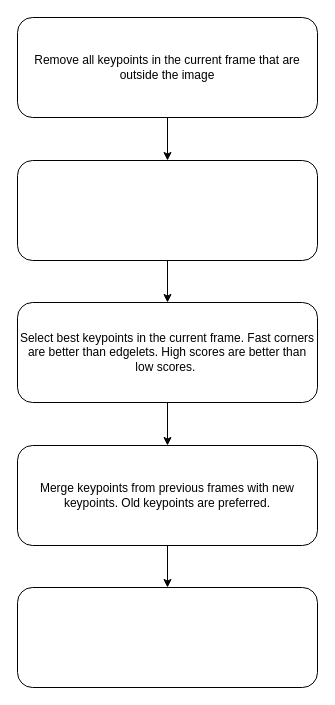
Some shapes in this 335 by 705 pixel diagram are drawn without their labels. Here are the shapes that lost their labels. From the top down, the centre of each, then its label:
the point at 167,210: Detect fast corners and edgleds on each level for the current frame
the point at 167,637: For all new keypoints calculate the disparity and from the disparity the depth
